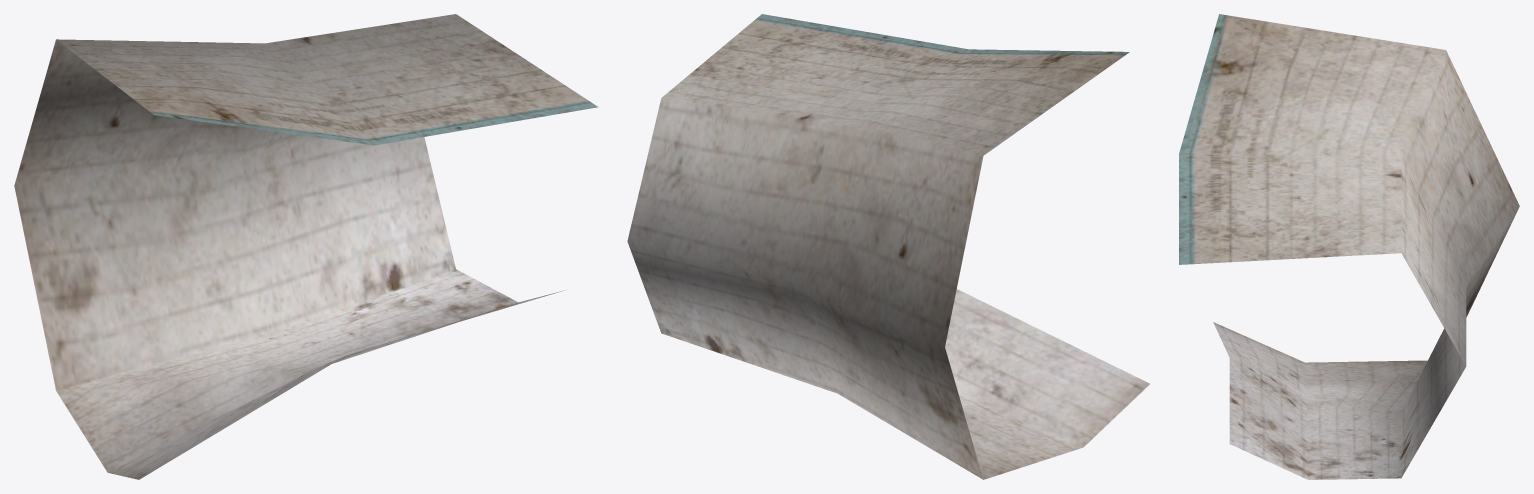
The model's file is fx_decal_burnt_paper_LOD0.obj.
3 renders of one model, left to right at view 1: azimuth 30°, elevation 25°; view 2: azimuth 150°, elevation 25°; view 3: azimuth 270°, elevation 25°, orthographic. The views are drawn at different scales.
Visible parts, largest first — view 1: mtl_fx_decal_burnt_paper; view 2: mtl_fx_decal_burnt_paper; view 3: mtl_fx_decal_burnt_paper.
Boxes of the visible parts, x1,y1,x2,y2 form: mtl_fx_decal_burnt_paper: (14, 14, 598, 479); mtl_fx_decal_burnt_paper: (627, 14, 1149, 479); mtl_fx_decal_burnt_paper: (1179, 14, 1519, 479).
Size of the model in its own units: 15.26 by 13.03 by 11.58.
